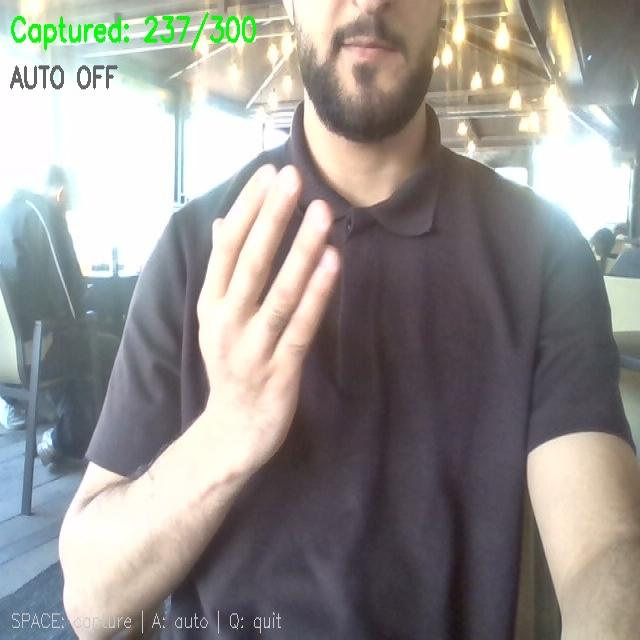Hand: (197, 166, 338, 470)
